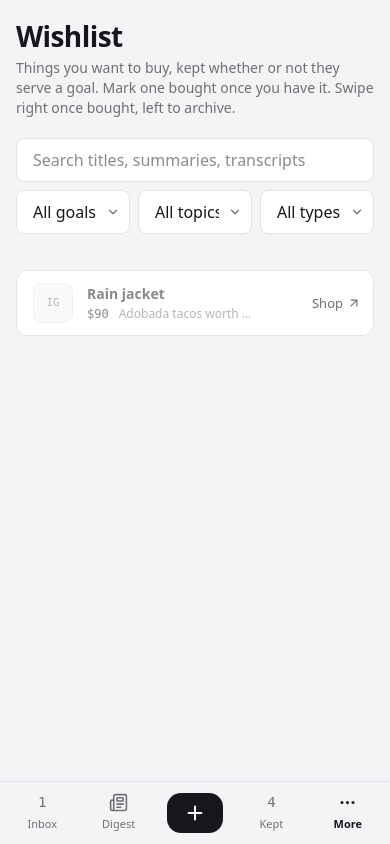
Test: wishlist shelf › counts the wishlist beside Kept in the sidebar and in the phone's More sheet
What coordinates should you click on to do the following:
click the button "More"
I would click on:
 (348, 813)
Its box is [310, 788, 386, 838].
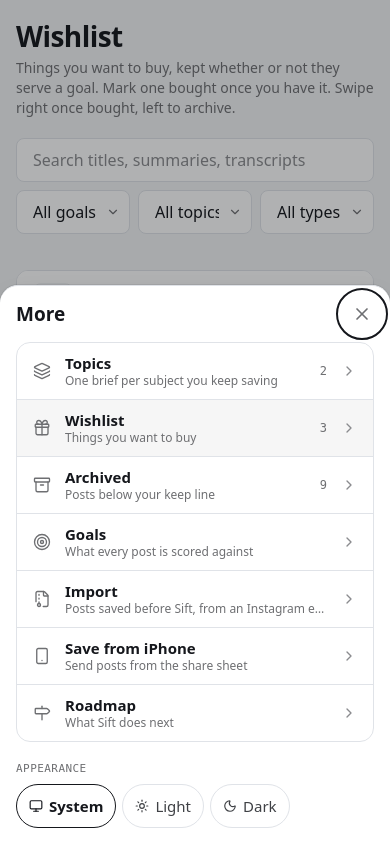
Result: the link "Wishlist Things you want to buy 3" is shown at [17, 400, 373, 456]
